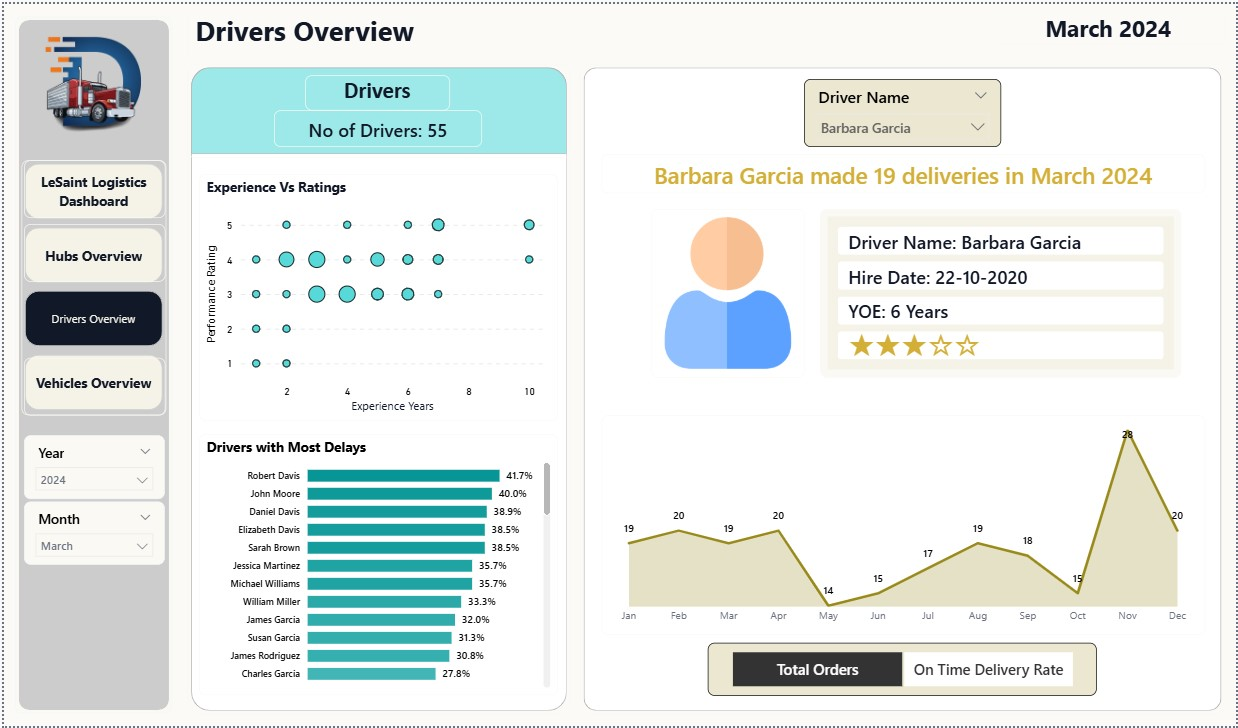

The dashboard page shown, as its layout file describes it:
{"tool":"powerbi","page":{"name":"Drivers Overview","canvas":[1450,850],"ordinal":2},"visuals":[{"type":"shape","box":[13.3,15,185,820],"z":0},{"type":"textbox","box":[216.7,0,531.7,70],"z":1000},{"type":"slicer","fields":{"Values":["Date Table.Month"]},"box":[23.3,585.6,165.6,74.4],"z":2000},{"type":"shape","box":[216.7,70,450,765],"z":3000},{"type":"shape","box":[216.4,70,450,110],"z":4000},{"type":"cardVisual","fields":{"Data":["Drivers_Dim.No of Drivers"]},"box":[318.3,125,245,43.3],"z":5000},{"type":"textbox","box":[355,83.3,170,41.7],"z":6000},{"type":"scatterChart","title":"Experience Vs Ratings","fields":{"X":["Drivers_Dim.Experience Years"],"Y":["Drivers_Dim.Performance Rating"],"Size":["CountNonNull(Drivers_Dim.Experience Years)1"]},"box":[228.8,200,422.5,290],"z":7000},{"type":"barChart","title":"Drivers with Most Delays","fields":{"Category":["Drivers_Dim.DriverName"],"Y":["_Measures.Delayed Delivery Rate"]},"box":[228.8,506.2,422.5,307.5],"z":8000},{"type":"image","box":[23.1,26.2,166.2,138.5],"z":9000},{"type":"cardVisual","fields":{"Data":["_Measures.Year Month title"]},"box":[1161.7,6.7,275,40],"z":10000},{"type":"shape","box":[678.3,70,758.3,765],"z":11000},{"type":"slicer","fields":{"Values":["Drivers_Dim.DriverName"]},"box":[941.7,88.3,231.7,80],"z":12000},{"type":"cardVisual","fields":{"Data":["Drivers_Dim.Drivers Title"]},"box":[703.3,176.7,710,46.7],"z":13000},{"type":"cardVisual","fields":{"Data":["Drivers_Dim.Driver Name Title","Drivers_Dim.Hire Date Title","Drivers_Dim.YOE Title","Drivers_Dim.Star Rating Titile"]},"box":[960,241.7,425,198.3],"z":14000},{"type":"image","box":[761.7,241.7,180,198.3],"z":15000},{"type":"areaChart","fields":{"Y":["_Measures.Total Orders"],"Category":["Date Table.Month abr"]},"box":[703,483.6,710.3,258.4],"z":16000},{"type":"slicer","fields":{"Values":["Select Measure.Select Measure"]},"box":[828.6,752.1,457.6,62.1],"z":17000},{"type":"pageNavigator","box":[20,184.3,170,300],"z":18000},{"type":"slicer","fields":{"Values":["Date Table.Year"]},"box":[23.3,506.7,165.6,75.6],"z":19000},{"type":"actionButton","box":[23,184,166,68],"z":20000},{"type":"actionButton","box":[23,259,166,68],"z":21000},{"type":"actionButton","box":[24,416,166,68],"z":22000}]}

Visuals, with their boxes in screenshot pixels (x1, y1, x2, y2), scaled from the page's 1450x850 canvas onto the 1238x728 screenshot:
shape: [x1=11, y1=13, x2=169, y2=715]
textbox: [x1=185, y1=0, x2=639, y2=60]
slicer - Date Table.Month: [x1=20, y1=502, x2=161, y2=565]
shape: [x1=185, y1=60, x2=569, y2=715]
shape: [x1=185, y1=60, x2=569, y2=154]
cardVisual - Drivers_Dim.No of Drivers: [x1=272, y1=107, x2=481, y2=144]
textbox: [x1=303, y1=71, x2=448, y2=107]
"Experience Vs Ratings" scatterChart: [x1=195, y1=171, x2=556, y2=420]
"Drivers with Most Delays" barChart: [x1=195, y1=434, x2=556, y2=697]
image: [x1=20, y1=22, x2=162, y2=141]
cardVisual - _Measures.Year Month title: [x1=992, y1=6, x2=1227, y2=40]
shape: [x1=579, y1=60, x2=1227, y2=715]
slicer - Drivers_Dim.DriverName: [x1=804, y1=76, x2=1002, y2=144]
cardVisual - Drivers_Dim.Drivers Title: [x1=600, y1=151, x2=1207, y2=191]
cardVisual - Drivers_Dim.Driver Name Title x Drivers_Dim.Hire Date Title: [x1=820, y1=207, x2=1183, y2=377]
image: [x1=650, y1=207, x2=804, y2=377]
areaChart - _Measures.Total Orders x Date Table.Month abr: [x1=600, y1=414, x2=1207, y2=636]
slicer - Select Measure.Select Measure: [x1=707, y1=644, x2=1098, y2=697]
pageNavigator: [x1=17, y1=158, x2=162, y2=415]
slicer - Date Table.Year: [x1=20, y1=434, x2=161, y2=499]
actionButton: [x1=20, y1=158, x2=161, y2=216]
actionButton: [x1=20, y1=222, x2=161, y2=280]
actionButton: [x1=20, y1=356, x2=162, y2=415]
